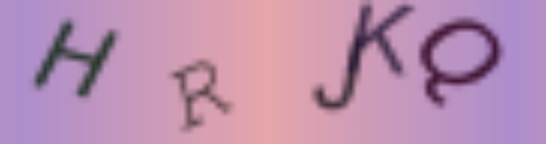H: (28, 18, 122, 102)
J: (309, 34, 364, 111)
K: (356, 1, 417, 78)
Q: (416, 12, 502, 109)
R: (167, 57, 238, 131)
